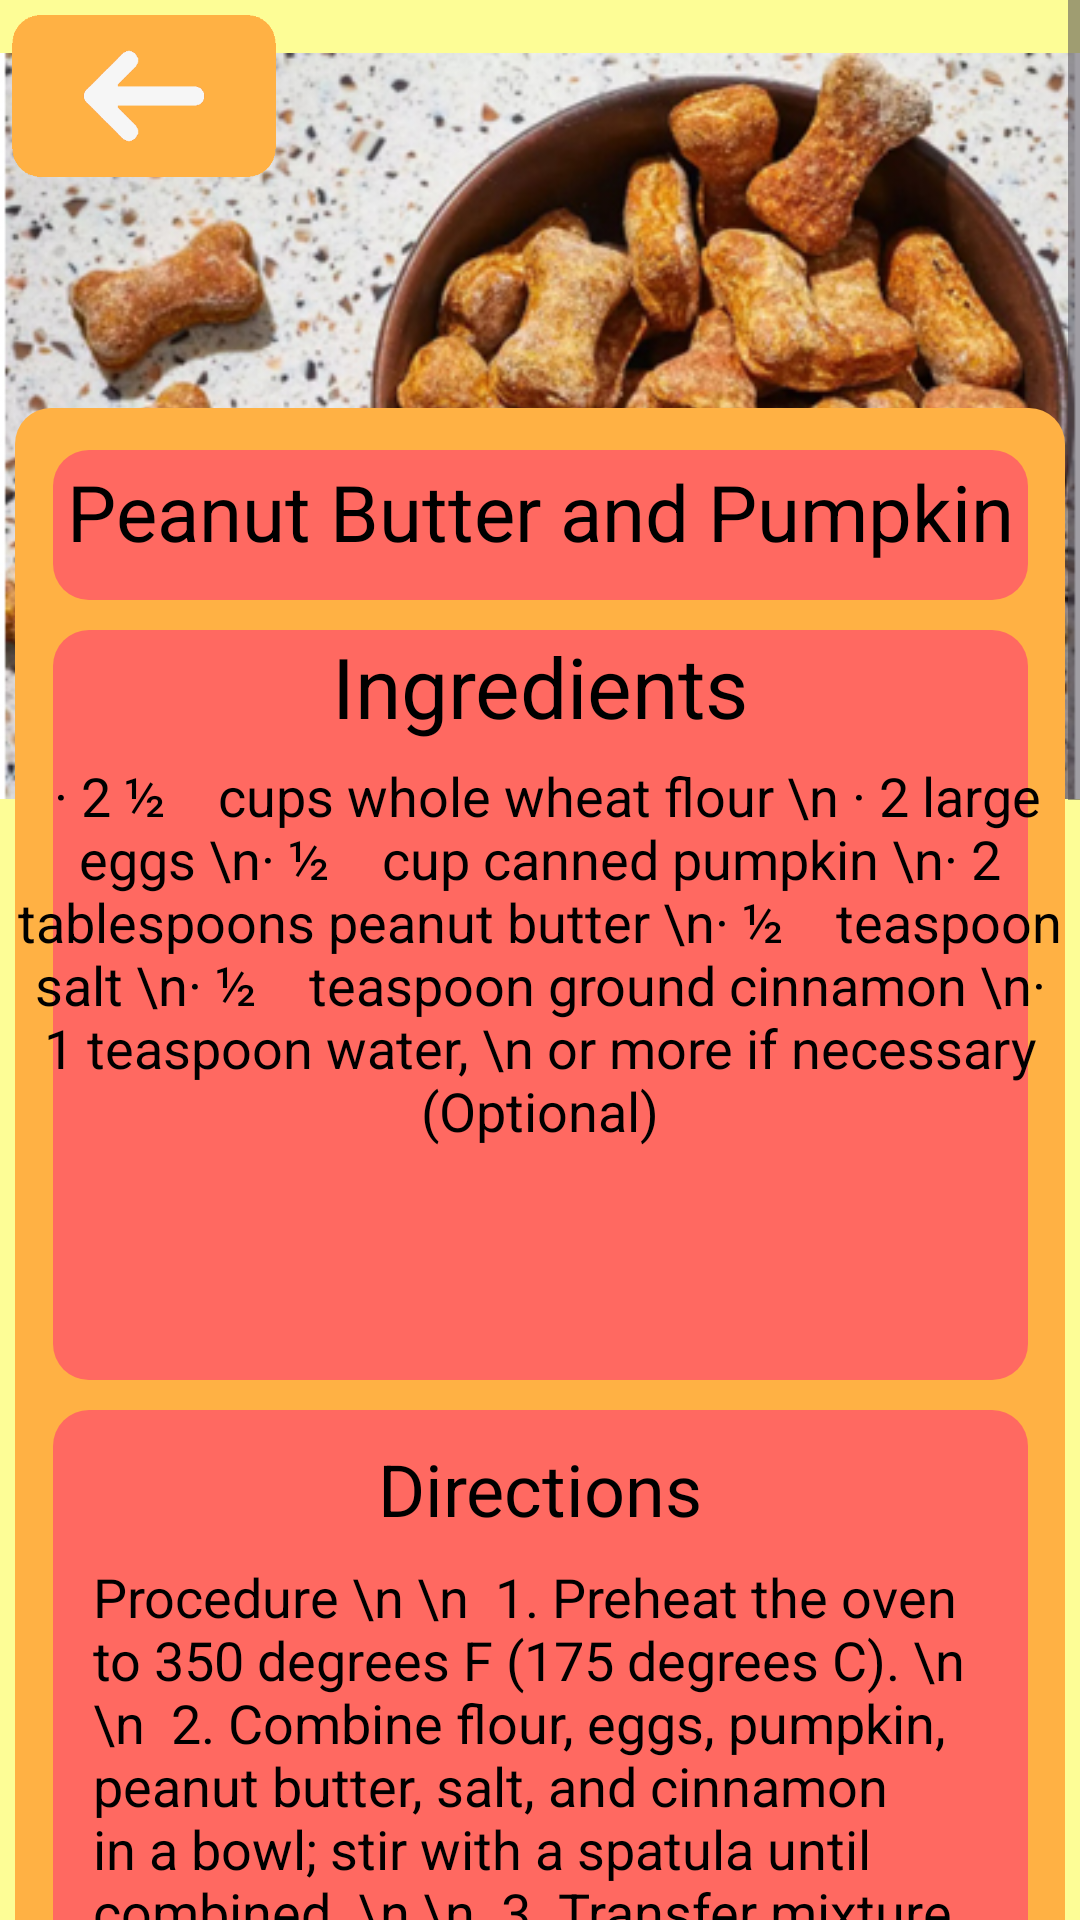

Icon click points for this 1080 × 1920 phone screenshot, format point (x, y):
backred: point (144, 96)
